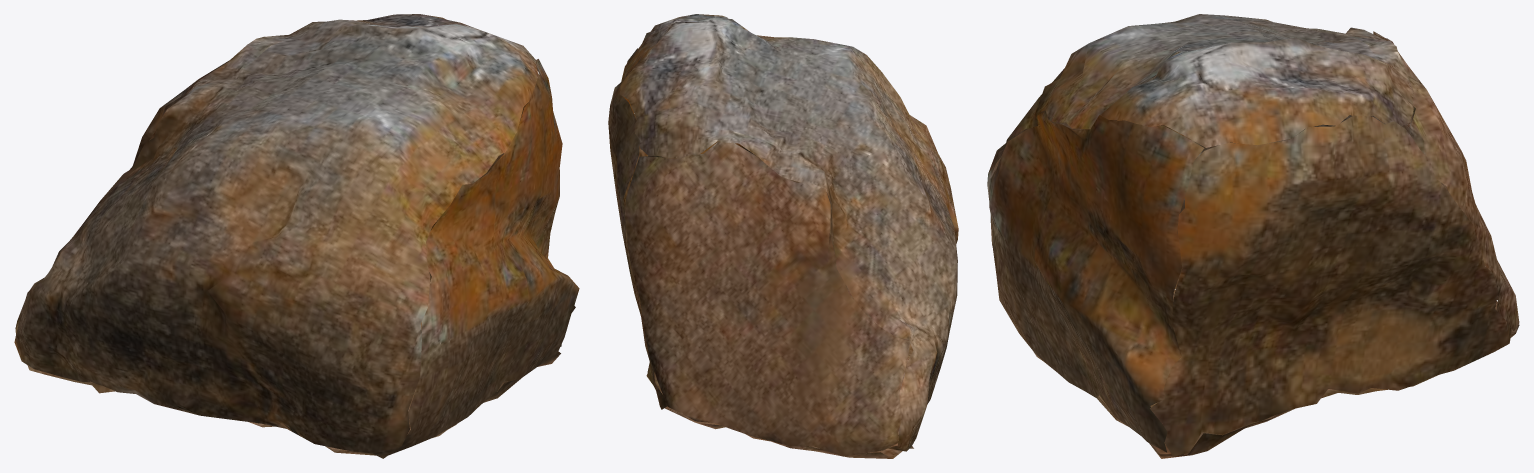
File: namaqualand_boulder_04.glb
3 views of the same model, side by side, from view 1: azimuth 30°, elevation 25°; view 2: azimuth 150°, elevation 25°; view 3: azimuth 270°, elevation 25° (orthographic). The views are drawn at different scales.
Visible parts, largest first — view 1: boulder_04; view 2: boulder_04; view 3: boulder_04.
Boxes of the visible parts, x1=… form: boulder_04: x1=14, y1=14, x2=579, y2=458; boulder_04: x1=608, y1=14, x2=958, y2=458; boulder_04: x1=987, y1=14, x2=1519, y2=458.
Size of the model in its own units: 2.52 by 1.88 by 2.48.
1 material, 1 textured.
